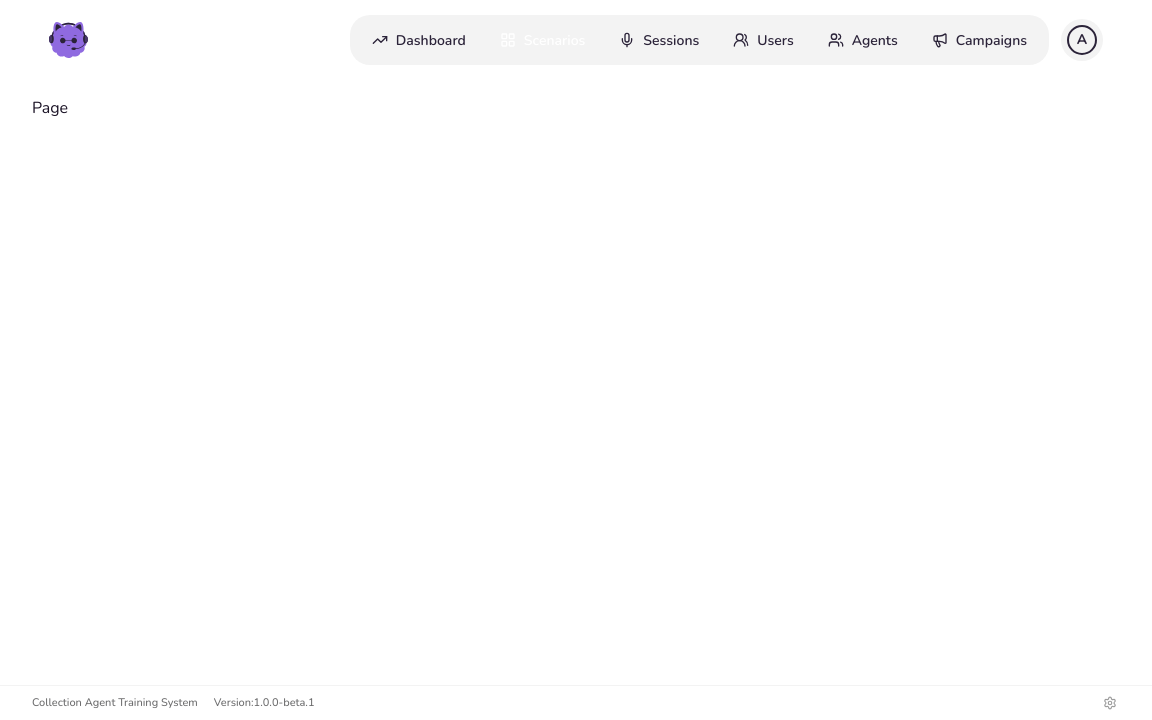
Scenario: NavigationShell script administration placement › shows Scripts inside the administrator account menu
The width and height of the screenshot is (1152, 720).
Click the button named "account menu" at (1082, 40), box [1067,25,1097,55]
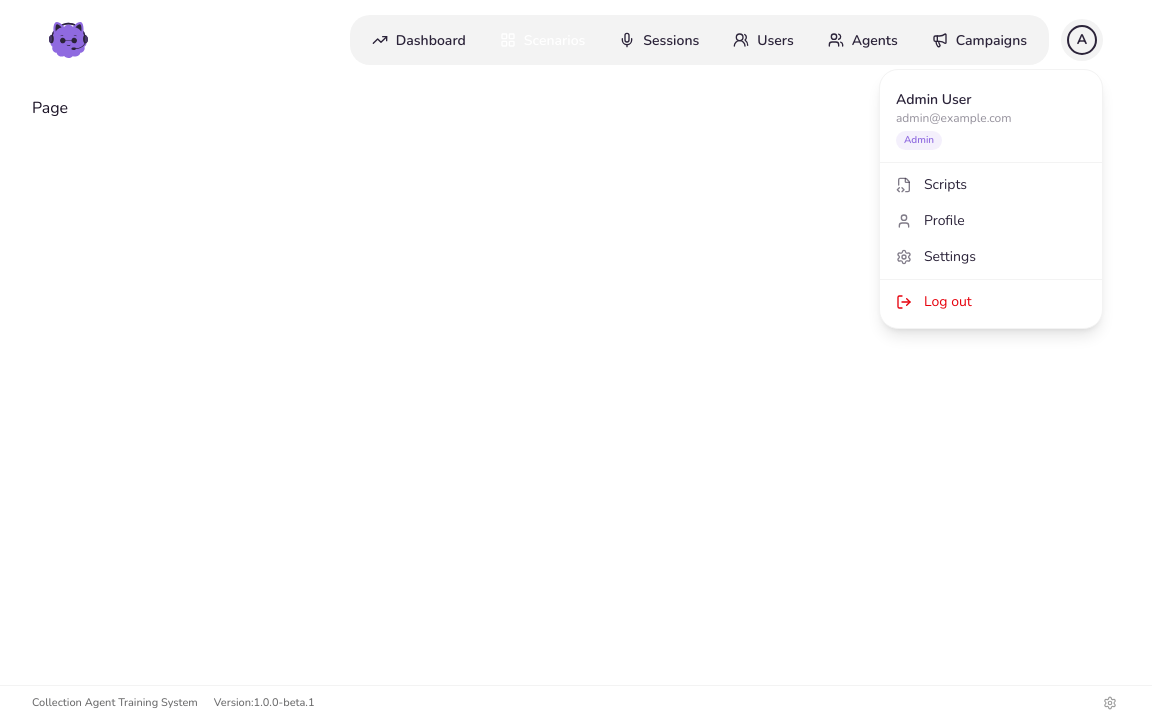
expect the button "Scripts" is shown: met, box [880,167,1102,203]
